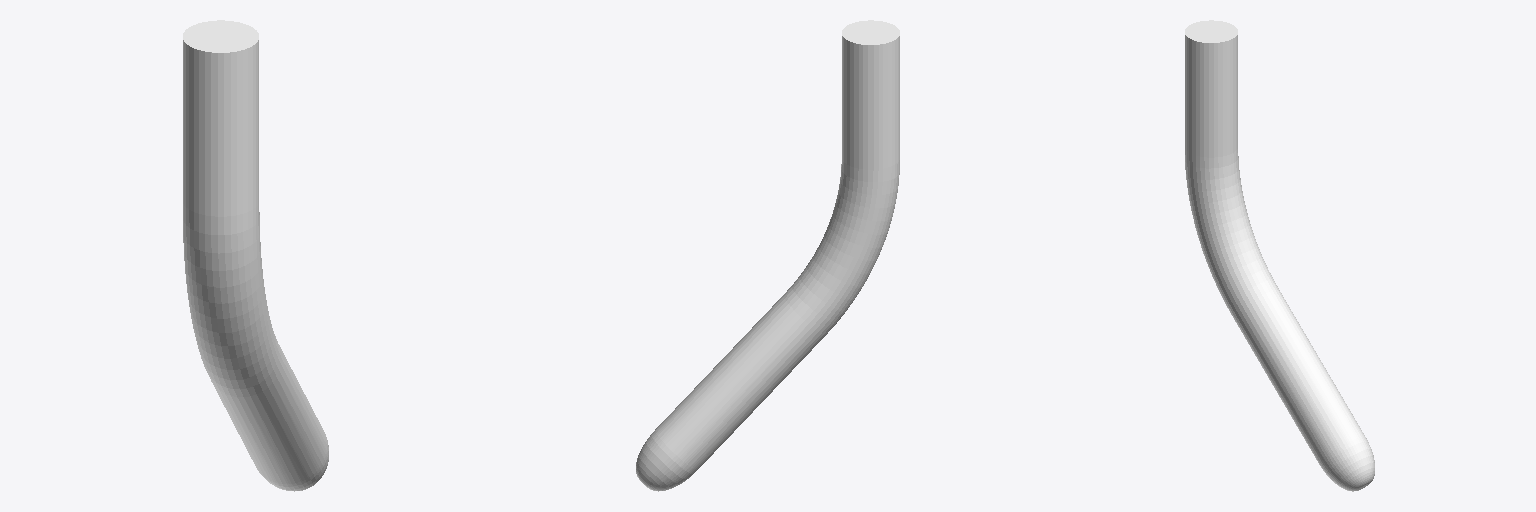
robot.urdf — panda:
<?xml version="1.0" encoding="utf-8"?>
<!-- =================================================================================== -->
<!-- |    This document was autogenerated by xacro from panda_arm_hand.urdf.xacro      | -->
<!-- |    EDITING THIS FILE BY HAND IS NOT RECOMMENDED                                 | -->
<!-- =================================================================================== -->
<robot name="panda">
  <link name="world"/>
  <joint name="panda_joint_world" type="fixed">
    <parent link="world"/>
    <child link="panda_link0"/>
    <origin rpy="0 0 0" xyz="0 0 0"/>
  </joint>
  <gazebo>
    <plugin filename="libgazebo_ros_control.so" name="gazebo_ros_control">
      <robotNamespace>/</robotNamespace>
    </plugin>
  </gazebo>
  <gazebo reference="panda_link0"/>
  <gazebo reference="panda_link1"/>
  <gazebo reference="panda_link2"/>
  <gazebo reference="panda_link3"/>
  <gazebo reference="panda_link4"/>
  <gazebo reference="panda_link5"/>
  <gazebo reference="panda_link6"/>
  <gazebo reference="panda_link7"/>
  <gazebo reference="panda_link8"/>
  <transmission name="panda_joint1_trans">
    <type>transmission_interface/SimpleTransmission</type>
    <joint name="panda_joint1">
      <hardwareInterface>hardware_interface/PositionJointInterface</hardwareInterface>
    </joint>
    <actuator name="panda_joint1_motor">
      <mechanicalReduction>1</mechanicalReduction>
    </actuator>
  </transmission>
  <transmission name="panda_joint2_trans">
    <type>transmission_interface/SimpleTransmission</type>
    <joint name="panda_joint2">
      <hardwareInterface>hardware_interface/PositionJointInterface</hardwareInterface>
    </joint>
    <actuator name="panda_joint2_motor">
      <mechanicalReduction>1</mechanicalReduction>
    </actuator>
  </transmission>
  <transmission name="panda_joint3_trans">
    <type>transmission_interface/SimpleTransmission</type>
    <joint name="panda_joint3">
      <hardwareInterface>hardware_interface/PositionJointInterface</hardwareInterface>
    </joint>
    <actuator name="panda_joint3_motor">
      <mechanicalReduction>1</mechanicalReduction>
    </actuator>
  </transmission>
  <transmission name="panda_joint4_trans">
    <type>transmission_interface/SimpleTransmission</type>
    <joint name="panda_joint4">
      <hardwareInterface>hardware_interface/PositionJointInterface</hardwareInterface>
    </joint>
    <actuator name="panda_joint4_motor">
      <mechanicalReduction>1</mechanicalReduction>
    </actuator>
  </transmission>
  <transmission name="panda_joint5_trans">
    <type>transmission_interface/SimpleTransmission</type>
    <joint name="panda_joint5">
      <hardwareInterface>hardware_interface/PositionJointInterface</hardwareInterface>
    </joint>
    <actuator name="panda_joint5_motor">
      <mechanicalReduction>1</mechanicalReduction>
    </actuator>
  </transmission>
  <transmission name="panda_joint6_trans">
    <type>transmission_interface/SimpleTransmission</type>
    <joint name="panda_joint6">
      <hardwareInterface>hardware_interface/PositionJointInterface</hardwareInterface>
    </joint>
    <actuator name="panda_joint6_motor">
      <mechanicalReduction>1</mechanicalReduction>
    </actuator>
  </transmission>
  <transmission name="panda_joint7_trans">
    <type>transmission_interface/SimpleTransmission</type>
    <joint name="panda_joint7">
      <hardwareInterface>hardware_interface/PositionJointInterface</hardwareInterface>
    </joint>
    <actuator name="panda_joint7_motor">
      <mechanicalReduction>1</mechanicalReduction>
    </actuator>
  </transmission>
  <link name="panda_link0">
    <inertial>
      <mass value="2.92"/>
      <origin rpy="0 0 0" xyz="-0.025566 -2.88e-05 0.057332"/>
      <inertia ixx="0.00782229414331" ixy="-1.56191622996e-05" ixz="-0.00126005738123" iyy="0.0109027971813" iyz="1.08233858202e-05" izz="0.0102355503949"/>
    </inertial>
    <visual>
      <origin rpy="0 0 0" xyz="0 0 0"/>
      <geometry>
        <mesh filename="package://panda/meshes/visual/link0.dae"/>
      </geometry>
      <material name="">
        <color rgba="1 1 1 1"/>
      </material>
    </visual>
    <collision>
      <origin rpy="0 0 0" xyz="0 0 0"/>
      <geometry>
        <mesh filename="package://panda/meshes/collision/link0.stl"/>
      </geometry>
    </collision>
  </link>
  <link name="panda_link1">
    <inertial>
      <mass value="2.74"/>
      <origin rpy="0 0 0" xyz="0 -0.0324958 -0.0675818"/>
      <inertia ixx="0.0180416958283" ixy="0.0" ixz="0.0" iyy="0.0159136071891" iyz="0.0046758424612" izz="0.00620690827127"/>
    </inertial>
    <visual>
      <origin rpy="0 0 0" xyz="0 0 0"/>
      <geometry>
        <mesh filename="package://panda/meshes/visual/link1.dae"/>
      </geometry>
      <material name="">
        <color rgba="1 1 1 1"/>
      </material>
    </visual>
    <collision>
      <origin rpy="0 0 0" xyz="0 0 0"/>
      <geometry>
        <mesh filename="package://panda/meshes/collision/link1.stl"/>
      </geometry>
    </collision>
  </link>
  <joint name="panda_joint1" type="revolute">
    <safety_controller k_position="100.0" k_velocity="40.0" soft_lower_limit="-2.8973" soft_upper_limit="2.8973"/>
    <origin rpy="0 0 0" xyz="0 0 0.333"/>
    <parent link="panda_link0"/>
    <child link="panda_link1"/>
    <axis xyz="0 0 1"/>
    <limit effort="87" lower="-2.8973" upper="2.8973" velocity="2.1750"/>
  </joint>
  <link name="panda_link2">
    <inertial>
      <mass value="2.74"/>
      <origin rpy="0 0 0" xyz="0 -0.06861 0.0322285"/>
      <inertia ixx="0.0182856182281" ixy="0.0" ixz="0.0" iyy="0.00621358421175" iyz="-0.00472844221905" izz="0.0161514346309"/>
    </inertial>
    <visual>
      <origin rpy="0 0 0" xyz="0 0 0"/>
      <geometry>
        <mesh filename="package://panda/meshes/visual/link2.dae"/>
      </geometry>
      <material name="">
        <color rgba="1 1 1 1"/>
      </material>
    </visual>
    <collision>
      <origin rpy="0 0 0" xyz="0 0 0"/>
      <geometry>
        <mesh filename="package://panda/meshes/collision/link2.stl"/>
      </geometry>
    </collision>
  </link>
  <joint name="panda_joint2" type="revolute">
    <safety_controller k_position="100.0" k_velocity="40.0" soft_lower_limit="-1.7628" soft_upper_limit="1.7628"/>
    <origin rpy="-1.57079632679 0 0" xyz="0 0 0"/>
    <parent link="panda_link1"/>
    <child link="panda_link2"/>
    <axis xyz="0 0 1"/>
    <limit effort="87" lower="-1.7628" upper="1.7628" velocity="2.1750"/>
  </joint>
  <link name="panda_link3">
    <inertial>
      <mass value="2.38"/>
      <origin rpy="0 0 0" xyz="0.0469893 0.0316374 -0.031704"/>
      <inertia ixx="0.00771376630908" ixy="-0.00248490625138" ixz="-0.00332147581033" iyy="0.00989108008727" iyz="-0.00217796151484" izz="0.00811723558464"/>
    </inertial>
    <visual>
      <origin rpy="0 0 0" xyz="0 0 0"/>
      <geometry>
        <mesh filename="package://panda/meshes/visual/link3.dae"/>
      </geometry>
      <material name="">
        <color rgba="1 1 1 1"/>
      </material>
    </visual>
    <collision>
      <origin rpy="0 0 0" xyz="0 0 0"/>
      <geometry>
        <mesh filename="package://panda/meshes/collision/link3.stl"/>
      </geometry>
    </collision>
  </link>
  <joint name="panda_joint3" type="revolute">
    <safety_controller k_position="100.0" k_velocity="40.0" soft_lower_limit="-2.8973" soft_upper_limit="2.8973"/>
    <origin rpy="1.57079632679 0 0" xyz="0 -0.316 0"/>
    <parent link="panda_link2"/>
    <child link="panda_link3"/>
    <axis xyz="0 0 1"/>
    <limit effort="87" lower="-2.8973" upper="2.8973" velocity="2.1750"/>
  </joint>
  <link name="panda_link4">
    <inertial>
      <mass value="2.38"/>
      <origin rpy="0 0 0" xyz="-0.0360446 0.0336853 0.031882"/>
      <inertia ixx="0.00799663881132" ixy="0.00347095570217" ixz="-0.00241222942995" iyy="0.00825390705278" iyz="0.00235774044121" izz="0.0102515004345"/>
    </inertial>
    <visual>
      <origin rpy="0 0 0" xyz="0 0 0"/>
      <geometry>
        <mesh filename="package://panda/meshes/visual/link4.dae"/>
      </geometry>
      <material name="">
        <color rgba="1 1 1 1"/>
      </material>
    </visual>
    <collision>
      <origin rpy="0 0 0" xyz="0 0 0"/>
      <geometry>
        <mesh filename="package://panda/meshes/collision/link4.stl"/>
      </geometry>
    </collision>
  </link>
  <joint name="panda_joint4" type="revolute">
    <safety_controller k_position="100.0" k_velocity="40.0" soft_lower_limit="-3.0718" soft_upper_limit="0.0698"/>
    <!-- soft_upper_limitr should be -0.0698, but that brakes simulation when initial position for this joint is 0.0 -->
    <origin rpy="1.57079632679 0 0" xyz="0.0825 0 0"/>
    <parent link="panda_link3"/>
    <child link="panda_link4"/>
    <axis xyz="0 0 1"/>
    <limit effort="87" lower="-3.0718" upper="0.0698" velocity="2.1750"/>
    <!-- upper should be -0.0698, but that brakes simulation when initial position for this joint is 0.0 -->
  </joint>
  <link name="panda_link5">
    <inertial>
      <mass value="2.74"/>
      <origin rpy="0 0 0" xyz="0 0.0610427 -0.104176"/>
      <inertia ixx="0.030371374513" ixy="6.50283587108e-07" ixz="-1.05129179916e-05" iyy="0.0288752887402" iyz="-0.00775653445787" izz="0.00444134056164"/>
    </inertial>
    <visual>
      <origin rpy="0 0 0" xyz="0 0 0"/>
      <geometry>
        <mesh filename="package://panda/meshes/visual/link5.dae"/>
      </geometry>
      <material name="">
        <color rgba="1 1 1 1"/>
      </material>
    </visual>
    <collision>
      <origin rpy="0 0 0" xyz="0 0 0"/>
      <geometry>
        <mesh filename="package://panda/meshes/collision/link5.stl"/>
      </geometry>
    </collision>
  </link>
  <joint name="panda_joint5" type="revolute">
    <safety_controller k_position="100.0" k_velocity="40.0" soft_lower_limit="-2.8973" soft_upper_limit="2.8973"/>
    <origin rpy="-1.57079632679 0 0" xyz="-0.0825 0.384 0"/>
    <parent link="panda_link4"/>
    <child link="panda_link5"/>
    <axis xyz="0 0 1"/>
    <limit effort="12" lower="-2.8973" upper="2.8973" velocity="2.6100"/>
  </joint>
  <link name="panda_link6">
    <inertial>
      <mass value="1.55"/>
      <origin rpy="0 0 0" xyz="0.0510509 0.009108 0.0106343"/>
      <inertia ixx="0.00303336450376" ixy="-0.000437276865508" ixz="0.000629257294877" iyy="0.00404479911567" iyz="0.000130472021025" izz="0.00558234286039"/>
    </inertial>
    <visual>
      <origin rpy="0 0 0" xyz="0 0 0"/>
      <geometry>
        <mesh filename="package://panda/meshes/visual/link6.dae"/>
      </geometry>
      <material name="">
        <color rgba="1 1 1 1"/>
      </material>
    </visual>
    <collision>
      <origin rpy="0 0 0" xyz="0 0 0"/>
      <geometry>
        <mesh filename="package://panda/meshes/collision/link6.stl"/>
      </geometry>
    </collision>
  </link>
  <joint name="panda_joint6" type="revolute">
    <safety_controller k_position="100.0" k_velocity="40.0" soft_lower_limit="-0.0175" soft_upper_limit="3.7525"/>
    <origin rpy="1.57079632679 0 0" xyz="0 0 0"/>
    <parent link="panda_link5"/>
    <child link="panda_link6"/>
    <axis xyz="0 0 1"/>
    <limit effort="12" lower="-0.0175" upper="3.7525" velocity="2.6100"/>
  </joint>
  <link name="panda_link7">
    <inertial>
      <mass value="0.54"/>
      <origin rpy="0 0 0" xyz="0.0109695 0.0107965 0.0650411"/>
      <inertia ixx="0.000888868887021" ixy="-0.00012239074652" ixz="3.98699829666e-05" iyy="0.000888001373233" iyz="-9.33825115206e-05" izz="0.0007176834609"/>
    </inertial>
    <visual>
      <origin rpy="0 0 0" xyz="0 0 0"/>
      <geometry>
        <mesh filename="package://panda/meshes/visual/link7.dae"/>
      </geometry>
      <material name="">
        <color rgba="1 1 1 1"/>
      </material>
    </visual>
    <collision>
      <origin rpy="0 0 0" xyz="0 0 0"/>
      <geometry>
        <mesh filename="package://panda/meshes/collision/link7.stl"/>
      </geometry>
    </collision>
  </link>
  <joint name="panda_joint7" type="revolute">
    <safety_controller k_position="100.0" k_velocity="40.0" soft_lower_limit="-2.8973" soft_upper_limit="2.8973"/>
    <origin rpy="1.57079632679 0 0" xyz="0.088 0 0"/>
    <parent link="panda_link6"/>
    <child link="panda_link7"/>
    <axis xyz="0 0 1"/>
    <limit effort="12" lower="-2.8973" upper="2.8973" velocity="2.6100"/>
  </joint>
  <link name="panda_link8"/>
  <joint name="panda_joint8" type="fixed">
    <origin rpy="0 0 0" xyz="0 0 0.107"/>
    <parent link="panda_link7"/>
    <child link="panda_link8"/>
    <axis xyz="0 0 0"/>
  </joint>
  <joint name="panda_hand_joint" type="fixed">
    <parent link="panda_link8"/>
    <child link="panda_hand"/>
    <origin rpy="0 0 -0.785398163397" xyz="0 0 0"/>
  </joint>
  <gazebo reference="panda_hand"/>
  <gazebo reference="panda_leftfinger"/>
  <gazebo reference="panda_rightfinger"/>
  <transmission name="panda_finger_joint1_trans">
    <type>transmission_interface/SimpleTransmission</type>
    <joint name="panda_finger_joint1">
      <hardwareInterface>hardware_interface/PositionJointInterface</hardwareInterface>
    </joint>
    <actuator name="panda_finger_joint1_motor">
      <mechanicalReduction>1</mechanicalReduction>
    </actuator>
  </transmission>
  <transmission name="panda_finger_joint2_trans">
    <type>transmission_interface/SimpleTransmission</type>
    <joint name="panda_finger_joint2">
      <hardwareInterface>hardware_interface/PositionJointInterface</hardwareInterface>
    </joint>
    <actuator name="panda_finger_joint2_motor">
      <mechanicalReduction>1</mechanicalReduction>
    </actuator>
  </transmission>
  <link name="panda_hand">
    <inertial>
      <mass value="0.73"/>
      <origin rpy="0 0 0" xyz="0 0.0015244 0.0275912"/>
      <inertia ixx="0.00278560230025" ixy="0.0" ixz="0.0" iyy="0.000400033405336" iyz="0.0" izz="0.00256378041832"/>
    </inertial>
    <collision>
      <origin rpy="0 0 0" xyz="0 0 0"/>
      <geometry>
        <mesh filename="package://panda/meshes/collision/hand.stl"/>
      </geometry>
    </collision>
  </link>
  <link name="panda_leftfinger">
    <inertial>
      <mass value="0.1"/>
      <origin rpy="0 0 0" xyz="0 0.0145644 0.0227941"/>
      <inertia ixx="3.01220925051e-05" ixy="0.0" ixz="0.0" iyy="2.95873808038e-05" iyz="0.0" izz="6.95125211657e-06"/>
    </inertial>
    <collision>
      <origin xyz="0 18.5e-3 11e-3" rpy="0 0 0" />
      <geometry>
        <box size="22e-3 15e-3 20e-3" />
      </geometry>
    </collision>
  </link>
  <link name="panda_rightfinger">
    <inertial>
      <mass value="0.1"/>
      <origin rpy="0 0 3.14159265359" xyz="0 0.0145644 0.0227941"/>
      <inertia ixx="3.01220925051e-05" ixy="0.0" ixz="0.0" iyy="2.95873808038e-05" iyz="0.0" izz="6.95125211657e-06"/>
    </inertial>
    <collision>
        <origin xyz="0 -18.5e-3 11e-3" rpy="0 0 0" />
        <geometry>
          <box size="22e-3 15e-3 20e-3" />
        </geometry>
    </collision>
  </link>
  <joint name="panda_finger_joint1" type="prismatic">
    <parent link="panda_hand"/>
    <child link="panda_leftfinger"/>
    <origin rpy="0 0 0" xyz="0 0 0.0584"/>
    <axis xyz="0 1 0"/>
    <limit effort="20" lower="-0.001" upper="0.04" velocity="0.3"/>
  </joint>
  <joint name="panda_finger_joint2" type="prismatic">
    <parent link="panda_hand"/>
    <child link="panda_rightfinger"/>
    <origin rpy="0 0 0" xyz="0 0 0.0584"/>
    <axis xyz="0 -1 0"/>
    <limit effort="20" lower="-0.001" upper="0.04" velocity="0.3"/>
  </joint>
  <link name="panda_finger_tip"/>
  <joint name="panda_finger_tip_joint" type="fixed">
    <parent link="panda_hand"/>
    <child link="panda_finger_tip"/>
    <origin rpy="0 0 0" xyz="0 0 0.1"/>
    <axis xyz="0 0 0"/>
  </joint>
  <link name="tool_tip">
    <visual>
        <origin rpy="0 0 0" xyz="0 0 0"/>
        <geometry>
          <mesh filename="package://panda/meshes/visual/welding_tool.dae"/>
        </geometry>
        <material name="">
          <color rgba="1 1 1 1"/>
        </material>
      </visual>
  </link>
  <joint name="tool_tip_joint" type="fixed">
    <parent link="panda_hand"/>
    <child link="tool_tip"/>
    <origin rpy="0 0 -1.570795" xyz="0.0 0 0.0"/>
  </joint>  
</robot>

--- Render facts (derived) ---
3 views of the same robot in one strip: view 1: azimuth 30°, elevation 25°; view 2: azimuth 150°, elevation 25°; view 3: azimuth 270°, elevation 25° (orthographic).
Model panda with 15 links and 14 joints (7 revolute, 2 prismatic, 5 fixed), rooted at world, posed every joint at zero.
Links seen in each view (by area): view 1: tool_tip; view 2: tool_tip; view 3: tool_tip.
Link boxes in pixels (x1,y1,x2,y2): tool_tip: (183, 20, 328, 491); tool_tip: (636, 20, 899, 491); tool_tip: (1185, 20, 1374, 491).
Bounding box of the posed robot: 0.0885 × 0.0886 × 0.2034 m (x, y, z).
Meshes: 9 distinct files referenced, 1 mesh visuals loaded (1 Collada DAE); not drawn: 8 (reference not matched to a file when rendering).